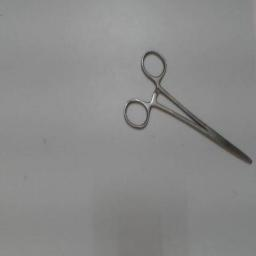Mayo Needle Holder: (118, 44, 254, 174)
